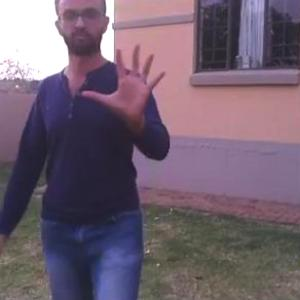follow_hand: (81, 38, 170, 122)
